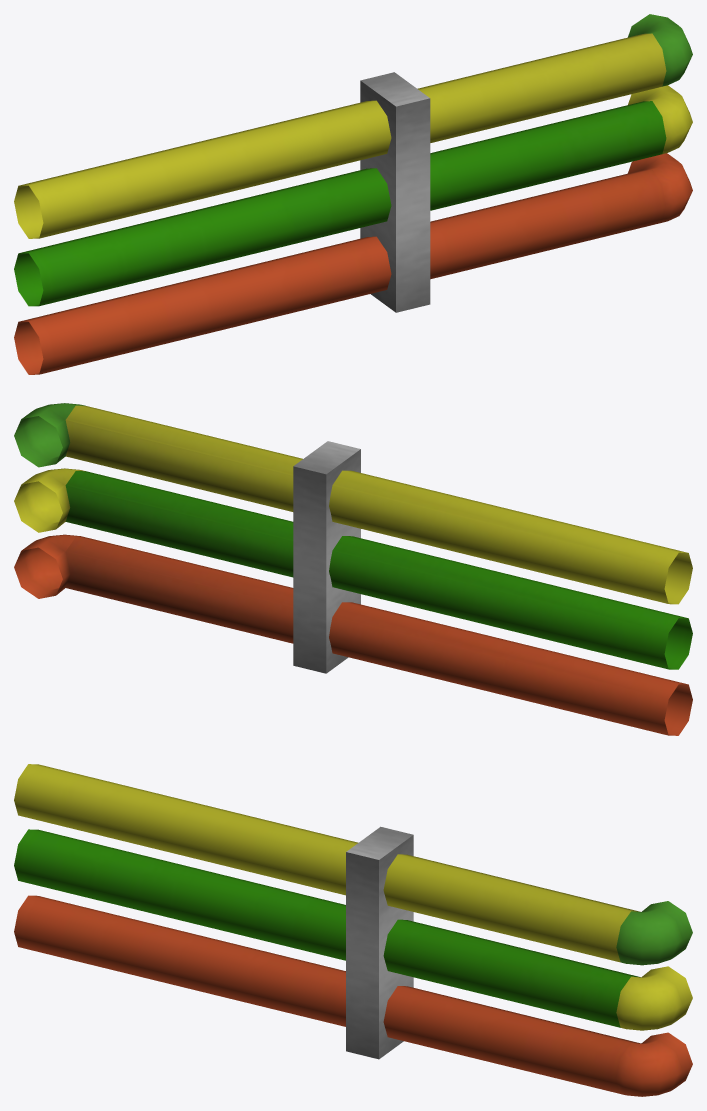
File: PipeEnd.FBX
3 renders of one model, top to bottom at view 1: azimuth 30°, elevation 25°; view 2: azimuth 150°, elevation 25°; view 3: azimuth 330°, elevation 25°, orthographic. The views are drawn at different scales.
Visible parts, largest first — view 1: Line001; view 2: Line001; view 3: Line001.
Part boxes in pixels (left/top/right/bottom): Line001: left=14, top=14, right=692, bottom=374; Line001: left=14, top=403, right=692, bottom=735; Line001: left=14, top=764, right=692, bottom=1096.
Bounding box in the file's own units: 39.28 × 11.6 × 4.06.
1 material, 1 textured.
